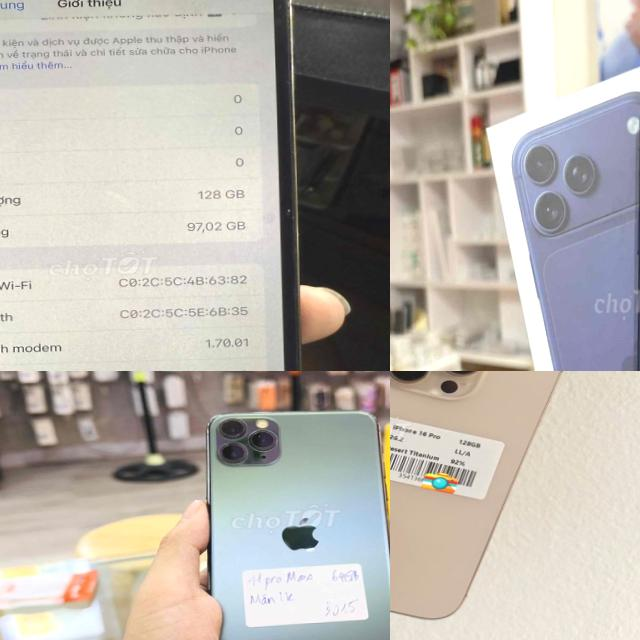gen_11: (207, 411, 390, 640)
gen_12_13: (0, 0, 312, 371)
gen_16: (390, 371, 576, 634)
